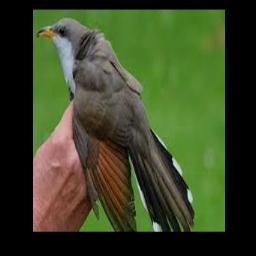Cuckoo: (37, 16, 195, 232)
